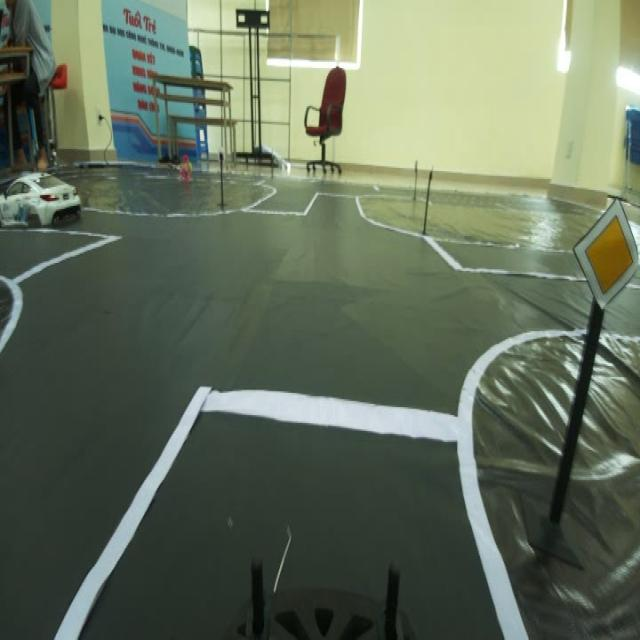priority: (567, 185, 628, 305)
